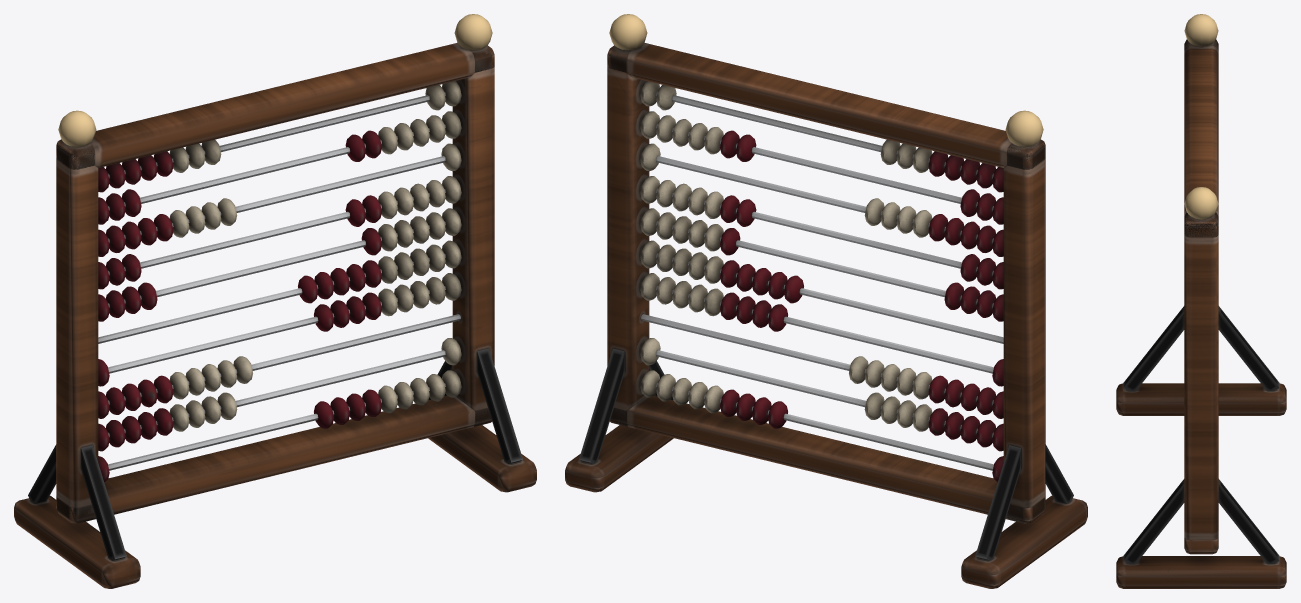
Rendered from Abacus.fbx.
3 views of the same model, side by side, from view 1: azimuth 30°, elevation 25°; view 2: azimuth 150°, elevation 25°; view 3: azimuth 270°, elevation 25° (orthographic). The views are drawn at different scales.
Parts seen in each view (by area): view 1: Abacus; view 2: Abacus; view 3: Abacus.
Boxes of the visible parts, x1,y1,x2,y2 form: Abacus: (14,14,536,588); Abacus: (565,14,1087,588); Abacus: (1116,14,1286,588).
Size of the model in its own units: 184 by 179 by 70.
